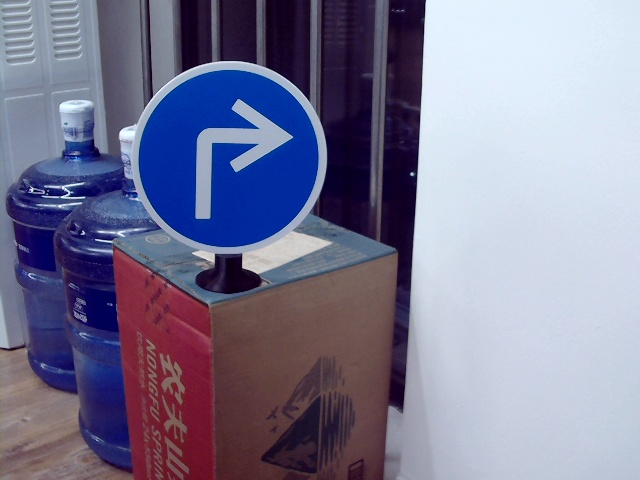turn_right: (182, 94, 292, 217)
